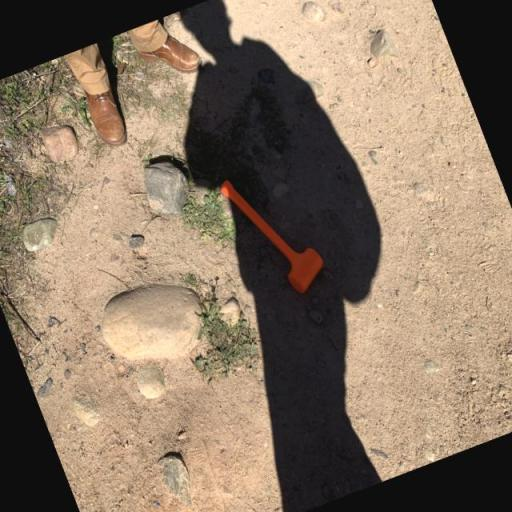mallet: (213, 153, 339, 316)
